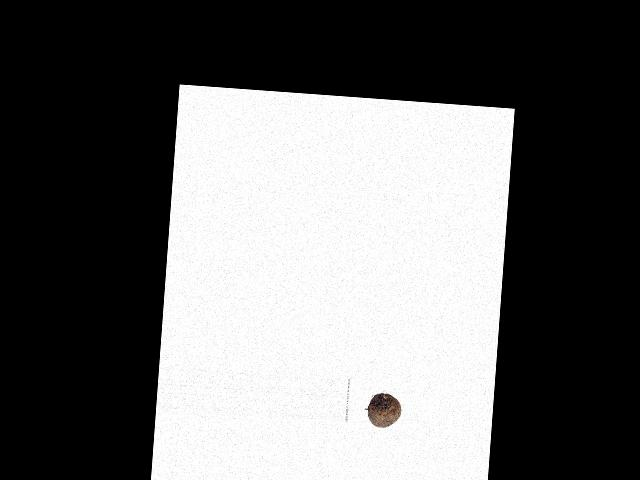beet: (366, 393, 401, 429)
